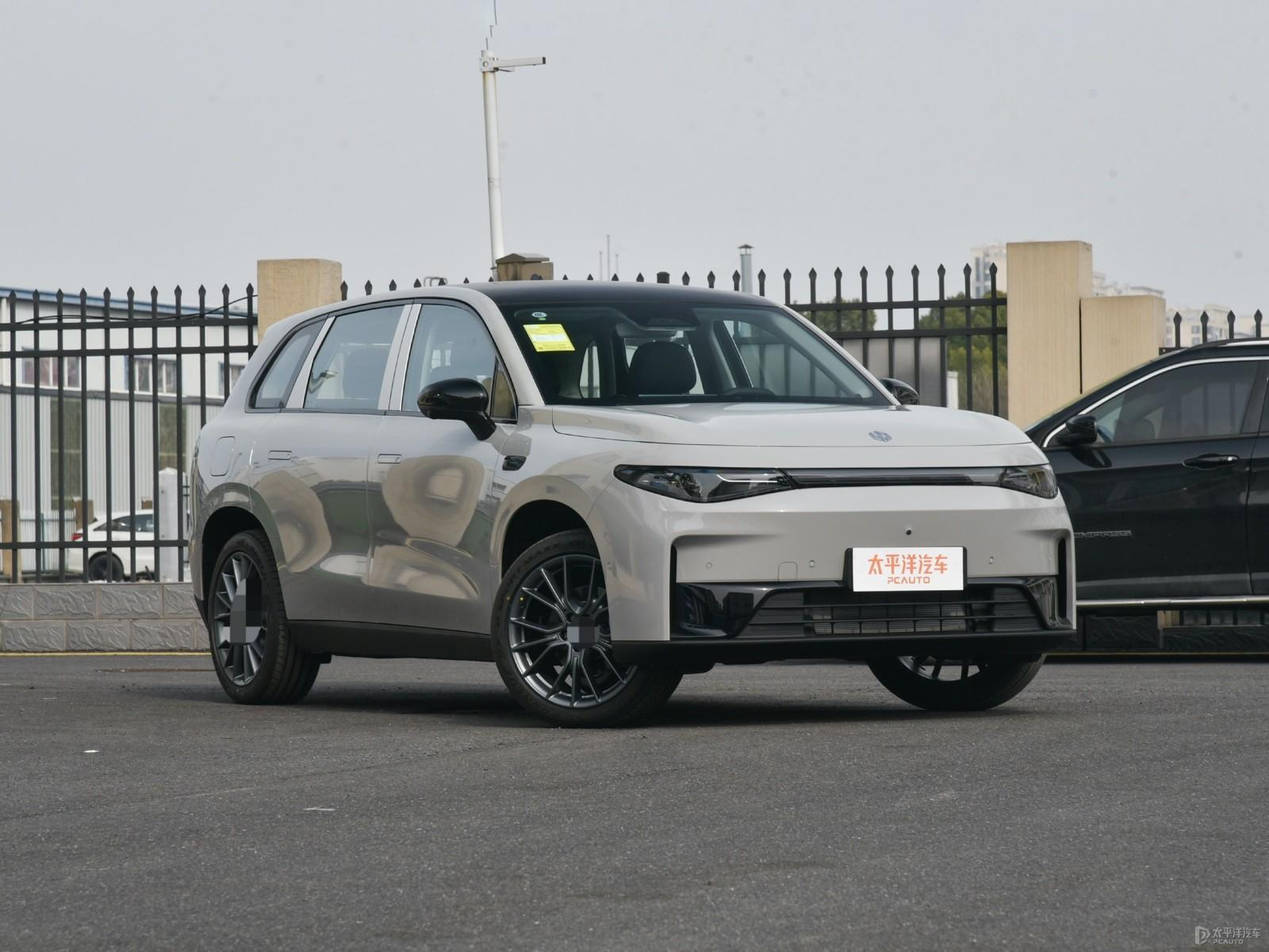LEAPMOTOR: (869, 431, 892, 443)
